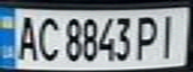3: (112, 14, 136, 62)
4: (97, 14, 118, 62)
8: (78, 15, 100, 63), (60, 14, 81, 63)
A: (12, 11, 42, 62)
C: (33, 12, 60, 63)
I: (154, 11, 184, 61)
P: (133, 11, 163, 61)
